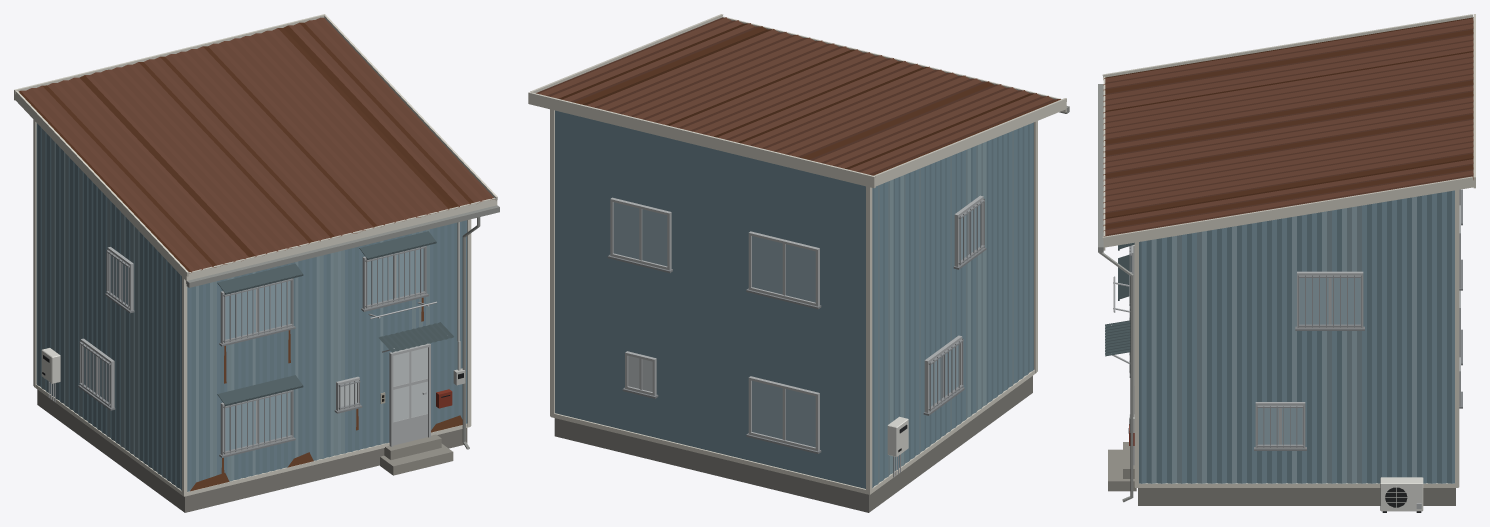
Rendered from house_c.glb.
3 renders of one model, left to right at view 1: azimuth 30°, elevation 25°; view 2: azimuth 150°, elevation 25°; view 3: azimuth 270°, elevation 25°, orthographic. The views are drawn at different scales.
Visible parts, largest first — view 1: house_c; view 2: house_c; view 3: house_c.
Boxes of the visible parts, bbox=[...] form: house_c: bbox=[14, 14, 499, 512]; house_c: bbox=[528, 14, 1069, 512]; house_c: bbox=[1098, 14, 1475, 512].
Bounding box in the file's own units: 7.02 × 6.72 × 6.84.
